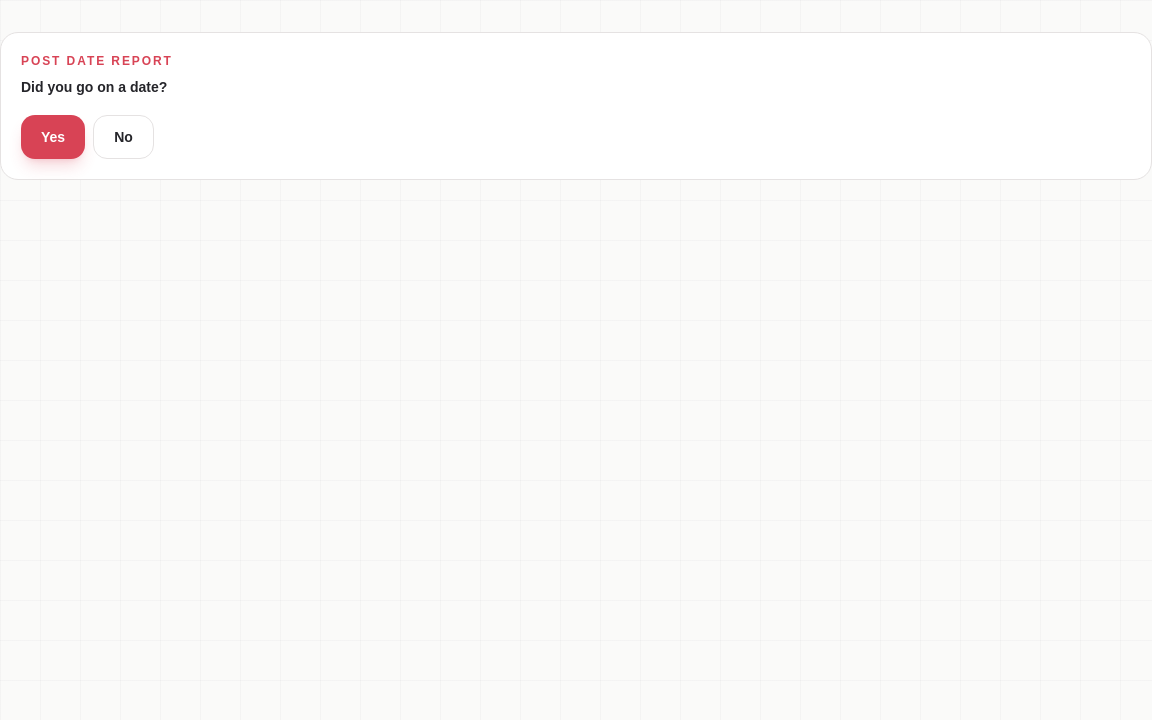
date feedback controls › submits Yes date quality only after confirming a date
Click the button "Yes". click: (53, 137)
box: [21, 115, 85, 159]
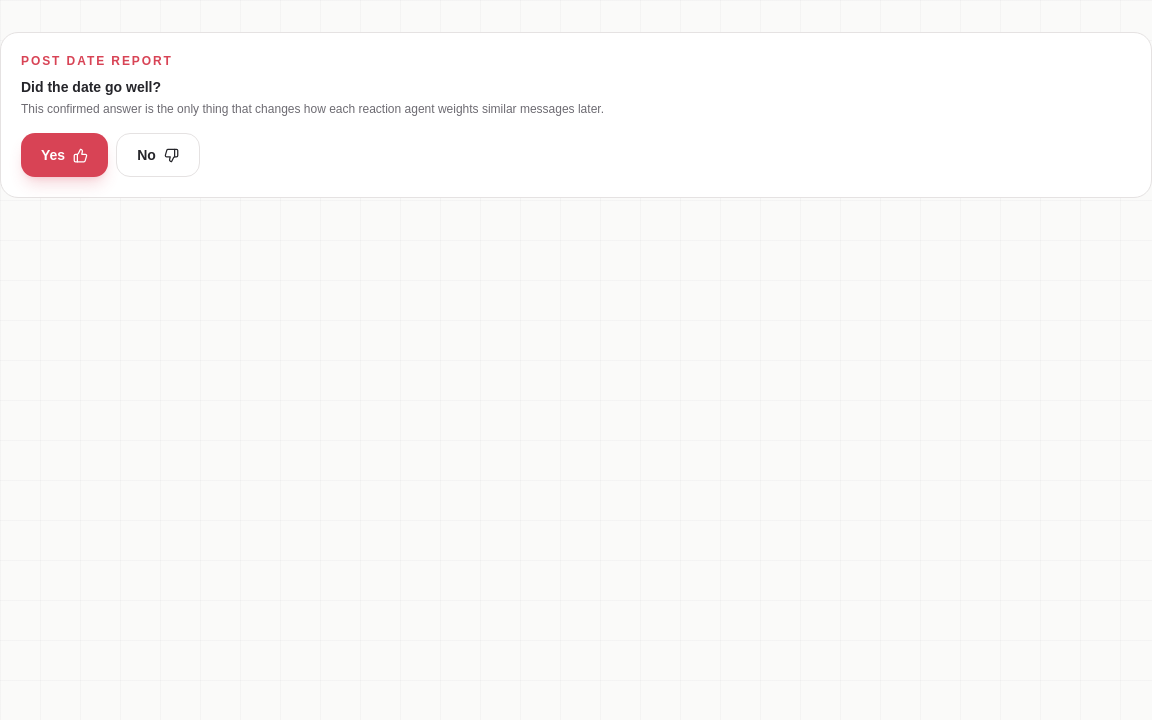
Click the button "Yes". click: (65, 155)
box: [21, 133, 108, 177]
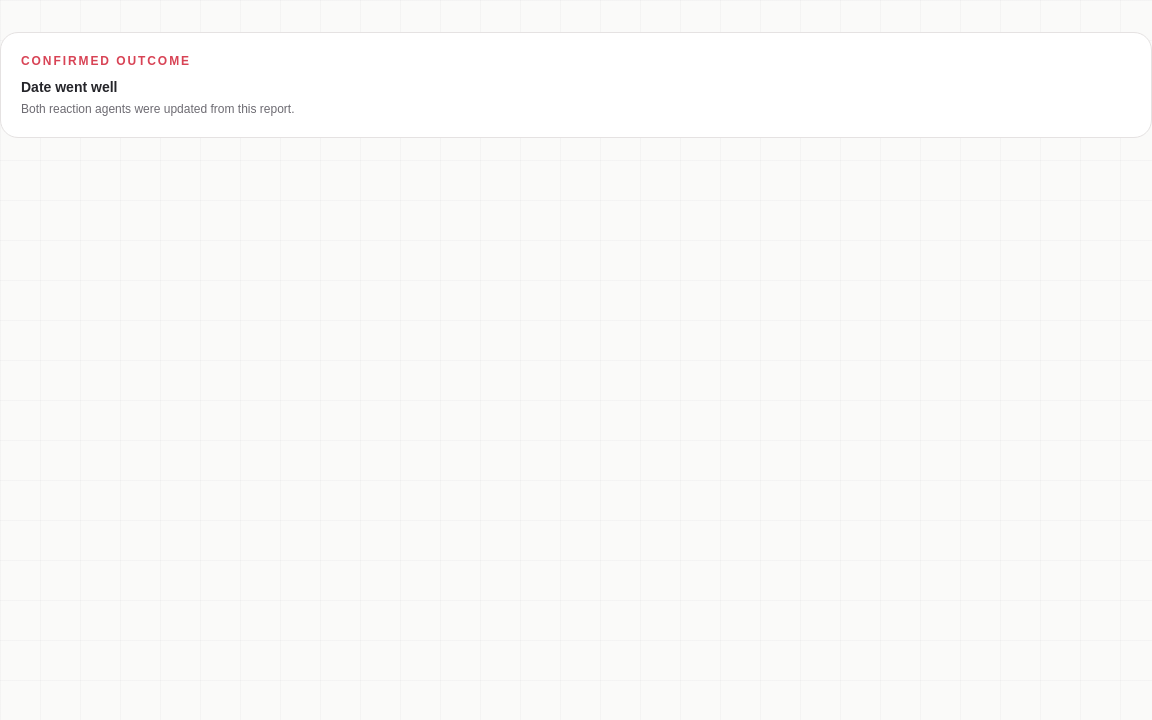
Expected: the text "Both reaction agents were updated from this report." is shown, [21, 102, 294, 116]
